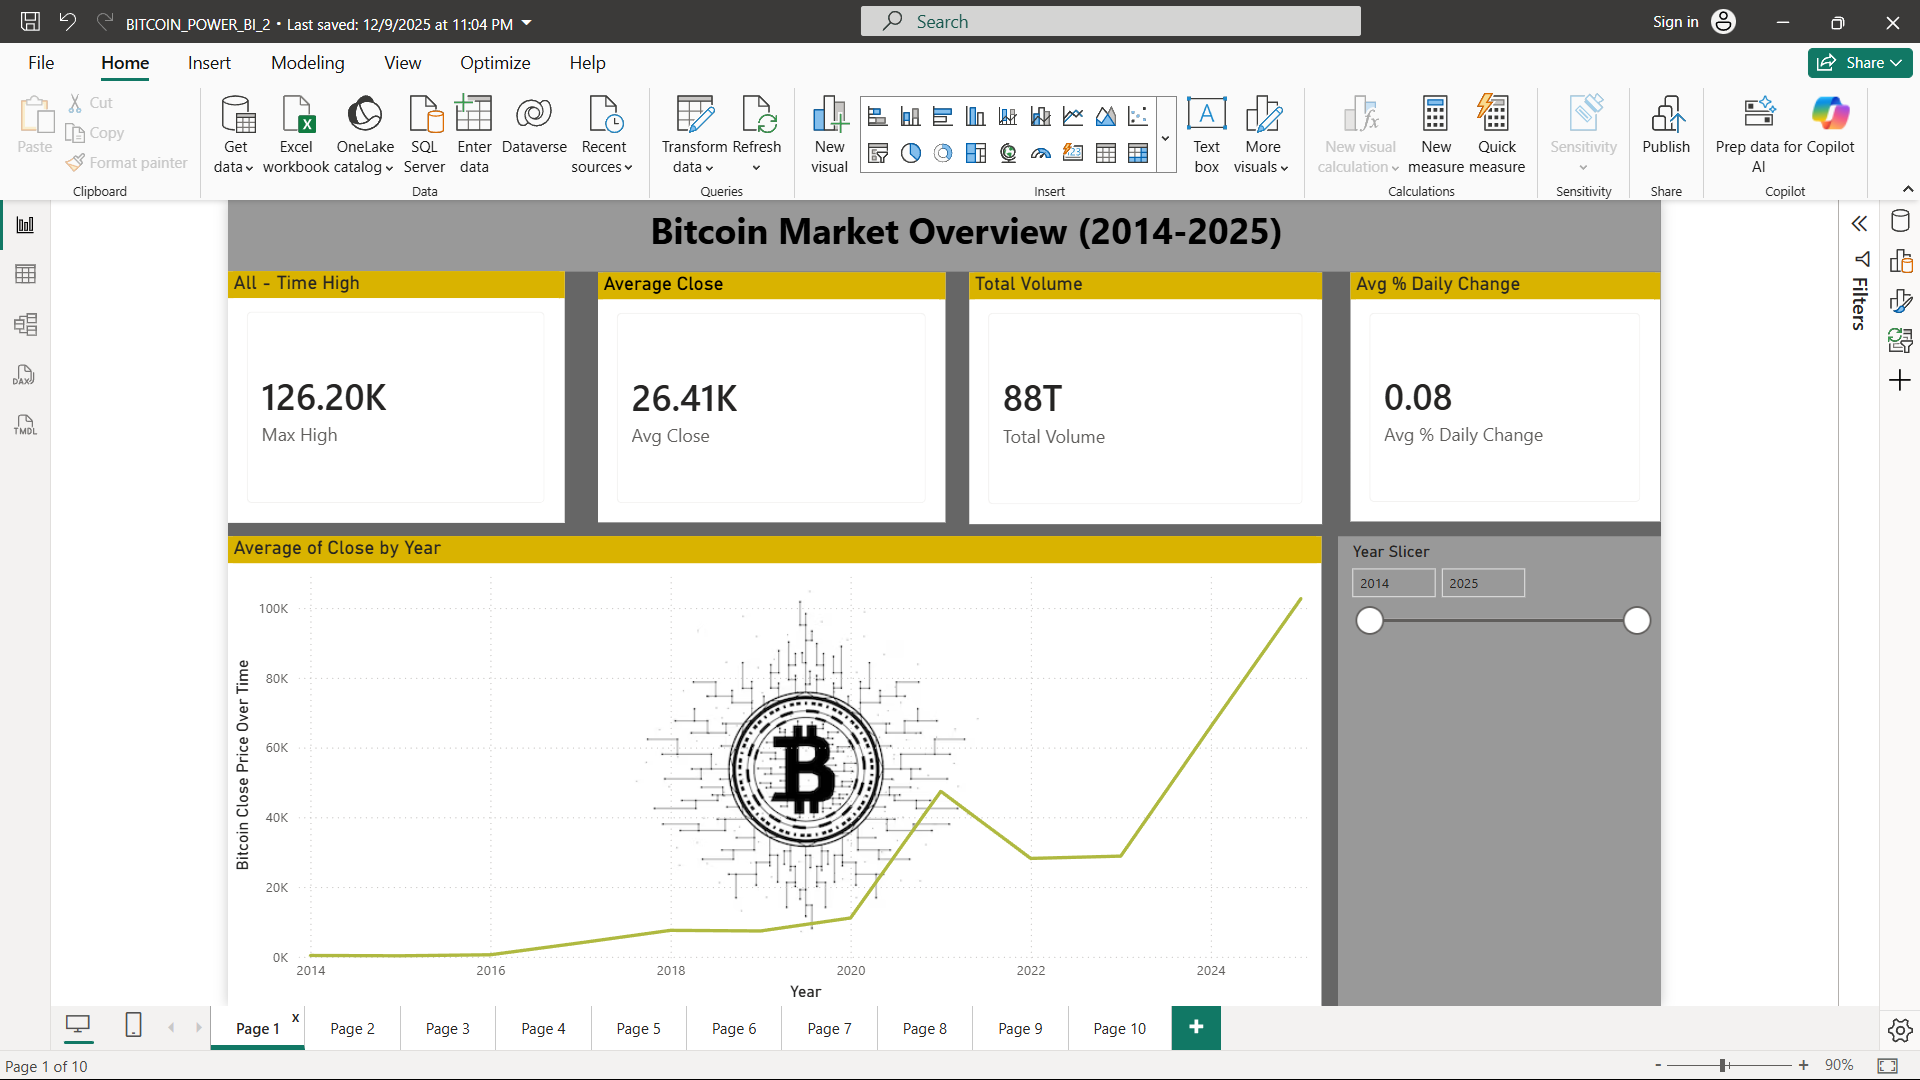

The page's visual inventory and layout, read from the dashboard file:
{"tool":"powerbi","page":{"name":"Page 1","canvas":[1280,720],"ordinal":0},"visuals":[{"type":"textbox","box":[0,0,1279.8,63.8],"z":0},{"type":"cardVisual","title":"All - Time High","fields":{"Data":["bitcoin_data_2014_to_2025.Max High"]},"box":[0,63.8,300.6,224.5],"z":1000},{"type":"cardVisual","title":"Average Close","fields":{"Data":["bitcoin_data_2014_to_2025.Avg Close"]},"box":[330.1,65,310.4,223.3],"z":2000},{"type":"cardVisual","title":"Total Volume","fields":{"Data":["bitcoin_data_2014_to_2025.Total Volume"]},"box":[662.2,64.2,315,224.9],"z":3000},{"type":"cardVisual","title":"Avg % Daily Change","fields":{"Data":["bitcoin_data_2014_to_2025.Avg % Daily Change"]},"box":[1003.1,64.2,276.7,222.8],"z":4000},{"type":"lineChart","fields":{"Category":["bitcoin_data_2014_to_2025.Date.Variation.Date Hierarchy.Year","bitcoin_data_2014_to_2025.Date.Variation.Date Hierarchy.Quarter","bitcoin_data_2014_to_2025.Date.Variation.Date Hierarchy.Month","bitcoin_data_2014_to_2025.Date.Variation.Date Hierarchy.Day"],"Y":["Avg(bitcoin_data_2014_to_2025.Close)"]},"box":[0,300.6,976.7,419.6],"z":5000},{"type":"slicer","fields":{"Values":["bitcoin_data_2014_to_2025.Year"]},"box":[991.4,300.6,288.3,419.6],"z":6000}]}

Visuals, with their boxes on the page's 1280x720 design canvas (x1, y1, x2, y2). These are canvas units, not pixel positions in the 1920x1080 screenshot, which may show the page scaled, cropped or inside an application window:
textbox: bbox=[0, 0, 1280, 64]
"All - Time High" cardVisual: bbox=[0, 64, 301, 288]
"Average Close" cardVisual: bbox=[330, 65, 640, 288]
"Total Volume" cardVisual: bbox=[662, 64, 977, 289]
"Avg % Daily Change" cardVisual: bbox=[1003, 64, 1280, 287]
lineChart - bitcoin_data_2014_to_2025.Date.Variation.Date Hierarchy.Year x bitcoin_data_2014_to_2025.Date.Variation.Date Hierarchy.Quarter: bbox=[0, 301, 977, 720]
slicer - bitcoin_data_2014_to_2025.Year: bbox=[991, 301, 1280, 720]
